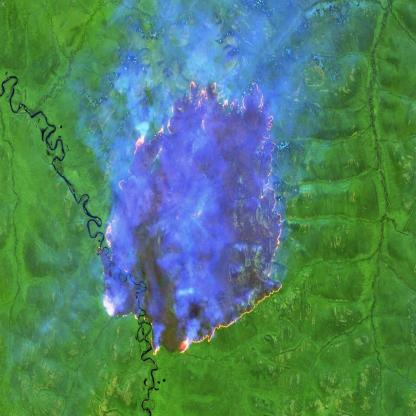fire: (98, 75, 291, 358)
